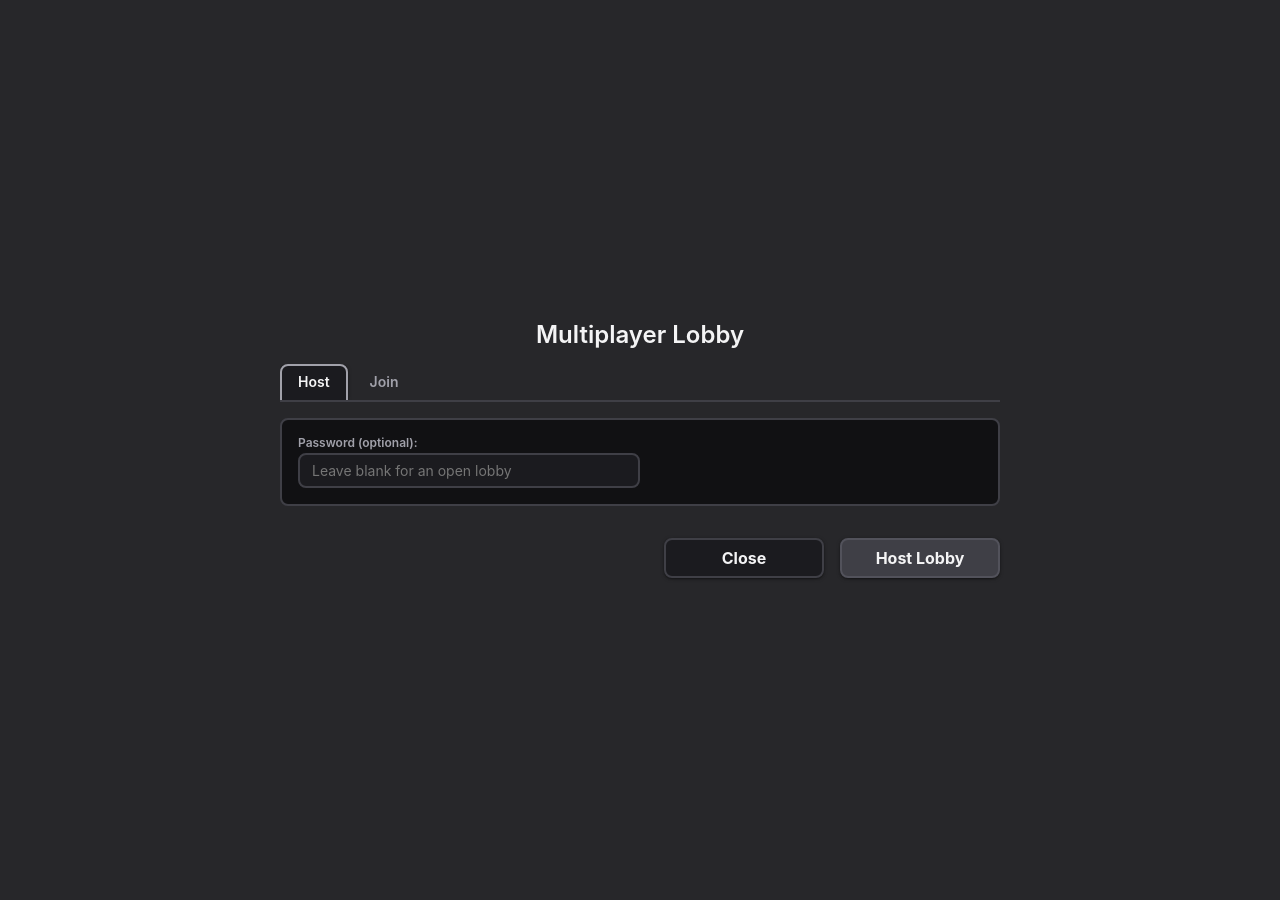
Test case: LobbyPage pending actions › renders lobby page object locators before a lobby is joined
Expected: the button with test id "host-lobby" is shown, [840,538,1000,578]
Click the tab "Join" at (384, 382), box [352,364,416,400]
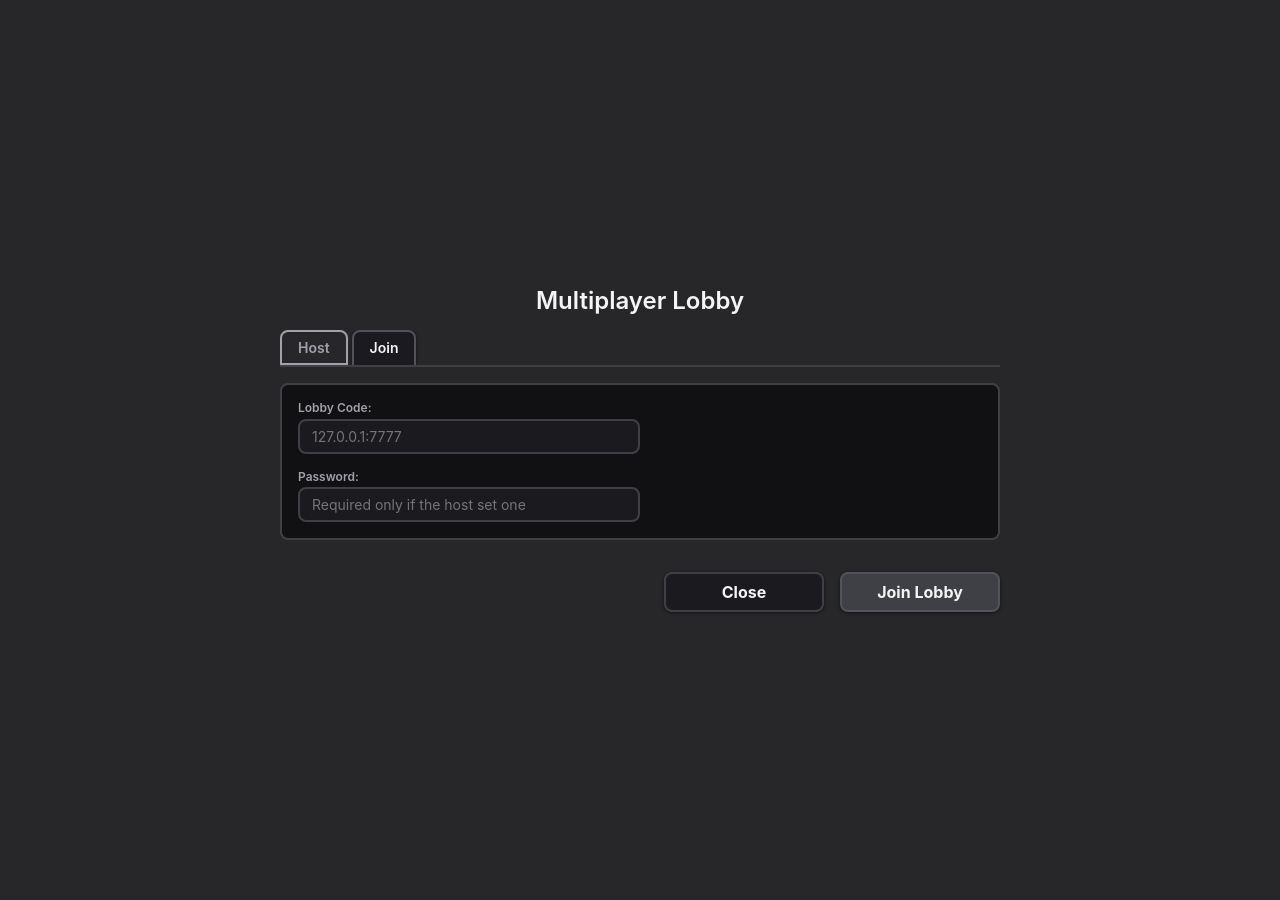
Now the button with test id "confirm-join" is shown, box [840,572,1000,612]
